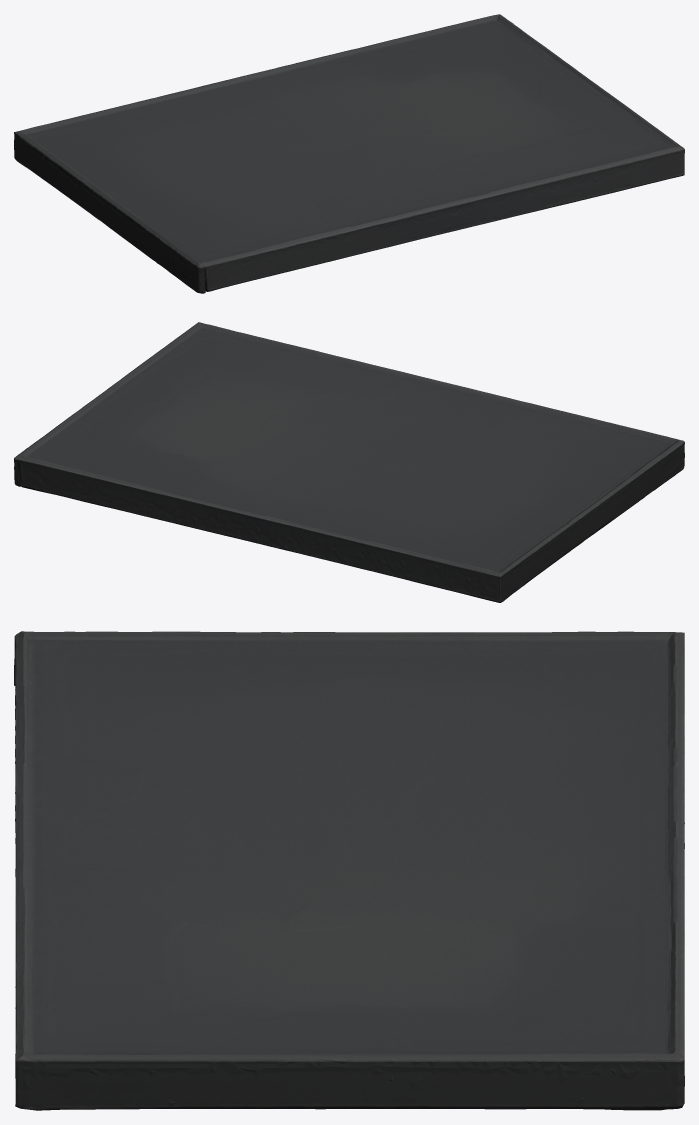
3 views of the same model, one above another, from view 1: azimuth 30°, elevation 25°; view 2: azimuth 150°, elevation 25°; view 3: azimuth 270°, elevation 25° (orthographic). The views are drawn at different scales.
Parts seen in each view (by area): view 1: world; view 2: world; view 3: world.
Boxes of the visible parts, left/top/right/bottom form: world: left=14, top=14, right=684, bottom=293; world: left=14, top=322, right=684, bottom=602; world: left=14, top=631, right=684, bottom=1110.
Size of the model in its own units: 1 by 0.0681 by 0.6621.
1 material, 1 textured.
